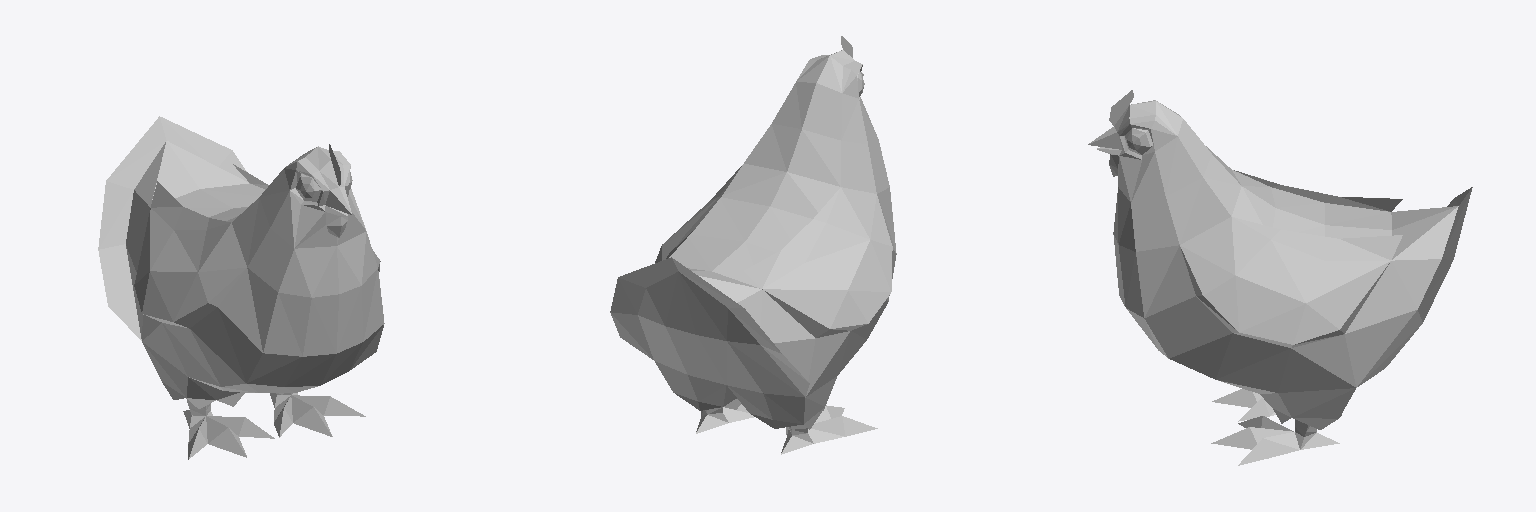
File: chicken1.obj
The picture shows the model from 3 angles: view 1: azimuth 30°, elevation 25°; view 2: azimuth 150°, elevation 25°; view 3: azimuth 270°, elevation 25°; orthographic projection.
Visible parts, largest first — view 1: Object_Texture1.jpg; view 2: Object_Texture1.jpg; view 3: Object_Texture1.jpg.
Boxes of the visible parts, x1,y1,x2,y2 form: Object_Texture1.jpg: [98, 116, 384, 459]; Object_Texture1.jpg: [610, 36, 896, 454]; Object_Texture1.jpg: [1088, 90, 1472, 465].
Size of the model in its own units: 1.61 by 2.39 by 2.5.